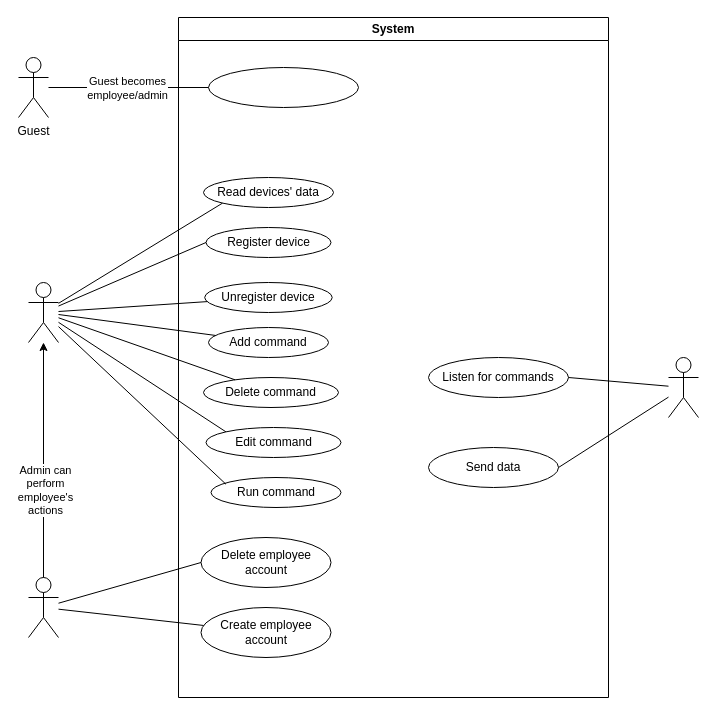
Some shapes in this 722 by 715 pixel diagram are drawn without their labels. Each missing label, with the box of its shape:
Admin: (28, 576, 58, 638)
Devices: (668, 356, 698, 418)
Employee: (28, 282, 58, 342)
Login to the system: (208, 66, 358, 108)
